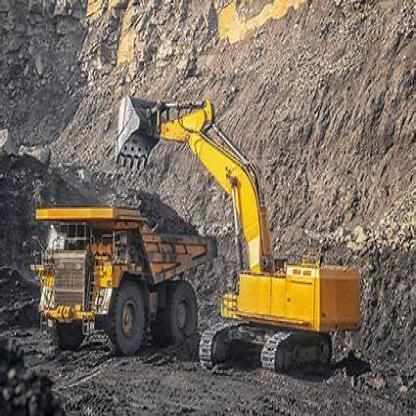dump_truck: (25, 191, 214, 369)
excavator: (113, 77, 383, 391)
